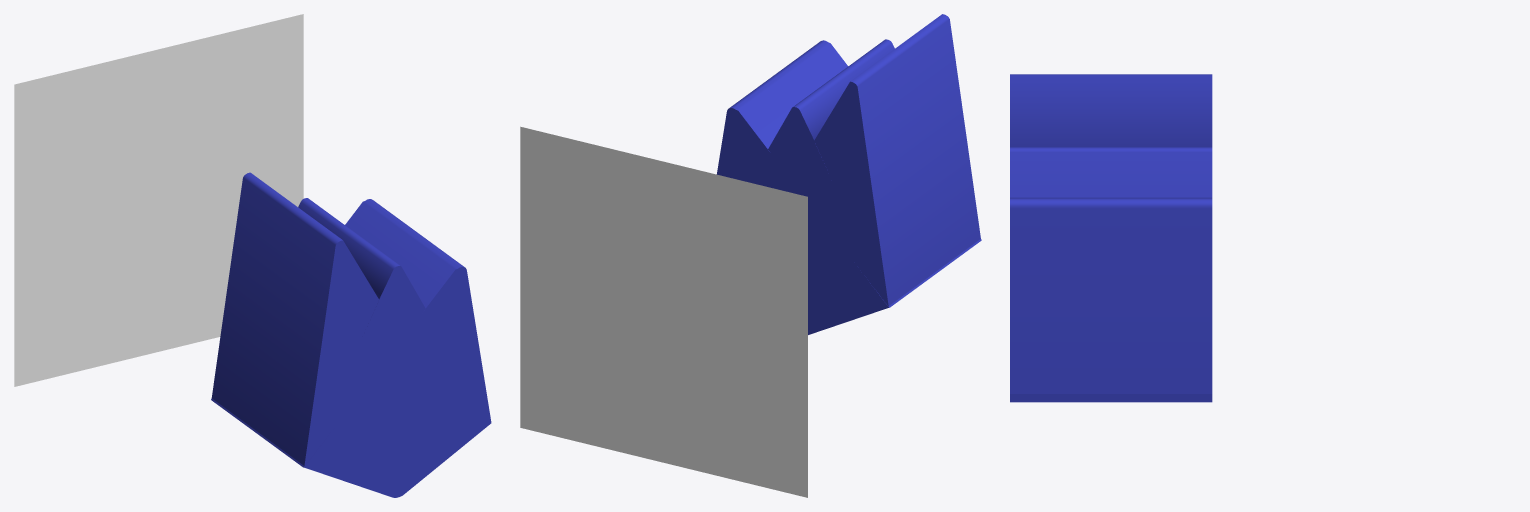
File: firebase.fbx
The picture shows the model from 3 angles, left to right: view 1: azimuth 30°, elevation 25°; view 2: azimuth 150°, elevation 25°; view 3: azimuth 270°, elevation 25°; orthographic projection. The views are drawn at different scales.
Visible parts, largest first — view 1: root (×5); view 2: root (×5); view 3: root (×3).
Boxes of the visible parts, <box> form: root (×5): <box>14,14,491,497</box>; root (×5): <box>520,14,981,497</box>; root (×3): <box>1010,74,1212,402</box>.
Bounding box in the file's own units: 0.18 × 0.18 × 0.2501.
Materials: 5 (1 with a texture image).
